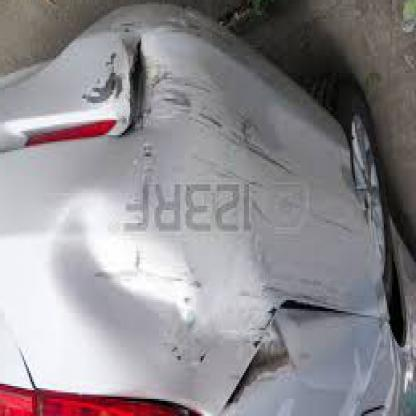dent: (231, 332, 310, 404), (124, 30, 152, 144)
